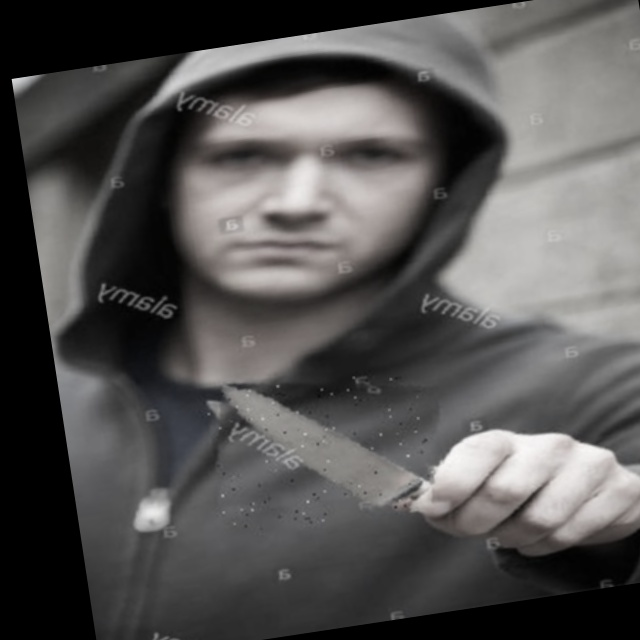Sharp-Object: (205, 361, 452, 536)
